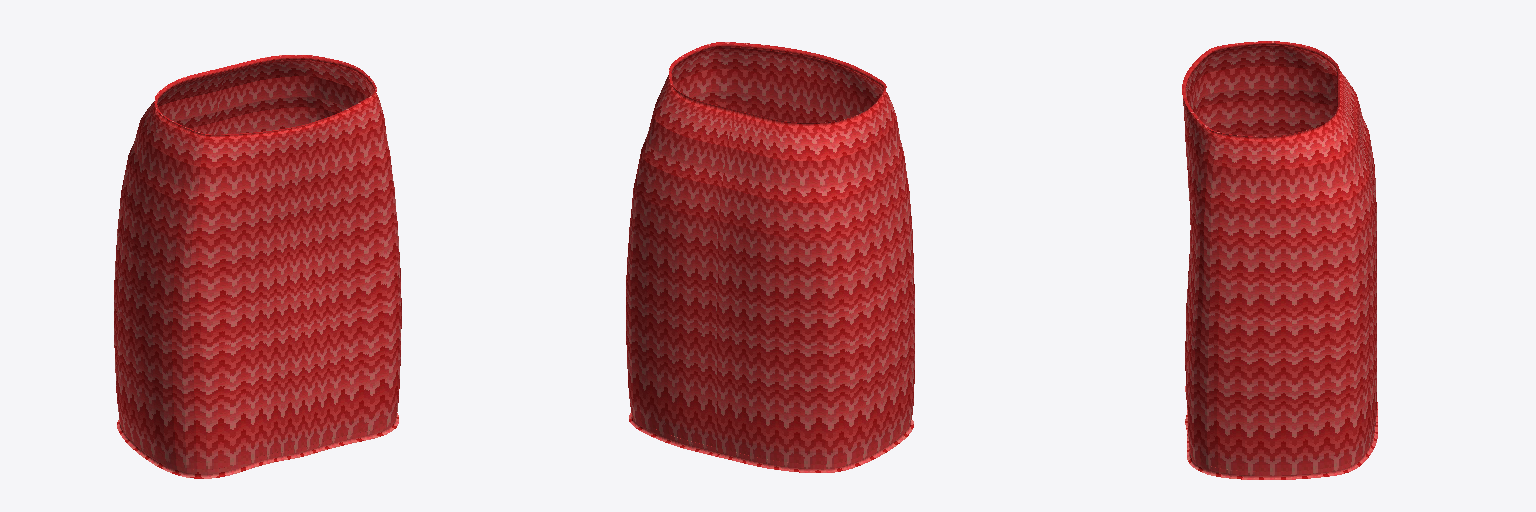
3 views of the same model, side by side, from view 1: azimuth 30°, elevation 25°; view 2: azimuth 150°, elevation 25°; view 3: azimuth 270°, elevation 25° (orthographic).
Visible parts, largest first — view 1: A3skirt01; view 2: A3skirt01; view 3: A3skirt01.
Part boxes in pixels (x1,y1,x2,y2): A3skirt01: (114, 55, 401, 478); A3skirt01: (626, 42, 914, 472); A3skirt01: (1182, 41, 1377, 479).
Bounding box in the file's own units: 0.2646 × 0.3419 × 0.1815.
Materials: 1 (1 with a texture image).